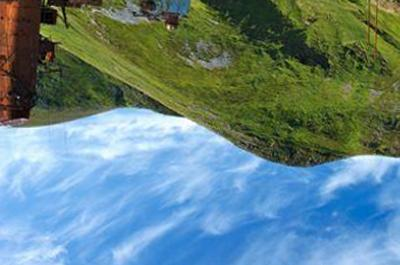rust: (1, 1, 56, 129), (163, 15, 185, 32)
